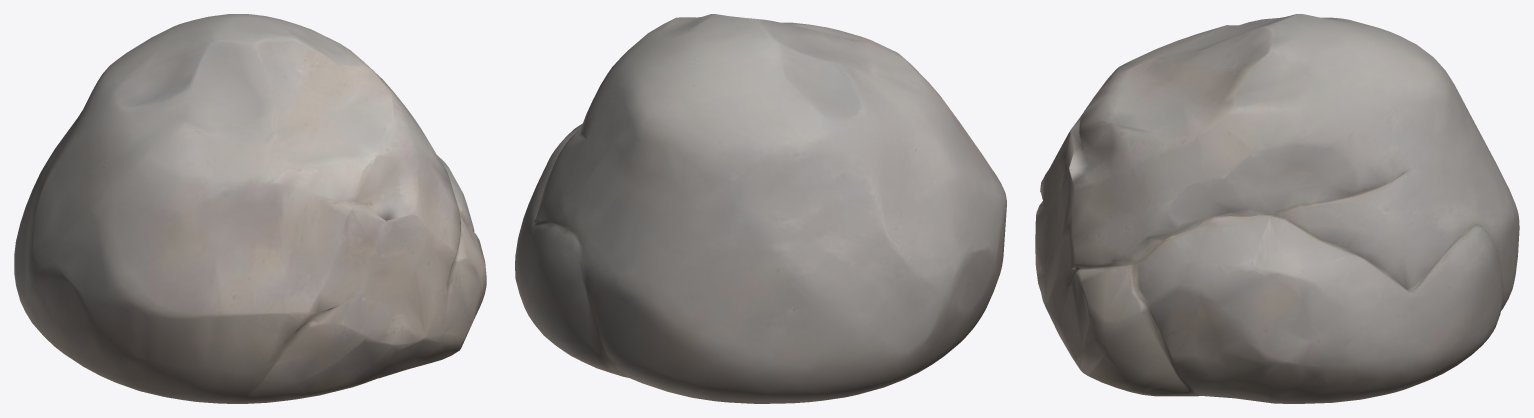
File: moon-rock-hy.glb
3 renders of one model, left to right at view 1: azimuth 30°, elevation 25°; view 2: azimuth 150°, elevation 25°; view 3: azimuth 270°, elevation 25°, orthographic. The views are drawn at different scales.
Parts seen in each view (by area): view 1: node_0; view 2: node_0; view 3: node_0.
Boxes of the visible parts, x1,y1,x2,y2 form: node_0: [14, 14, 486, 403]; node_0: [515, 14, 1006, 403]; node_0: [1035, 14, 1519, 403].
Bounding box in the file's own units: 1.01 × 0.6819 × 1.01.
Materials: 1 (1 with a texture image).
